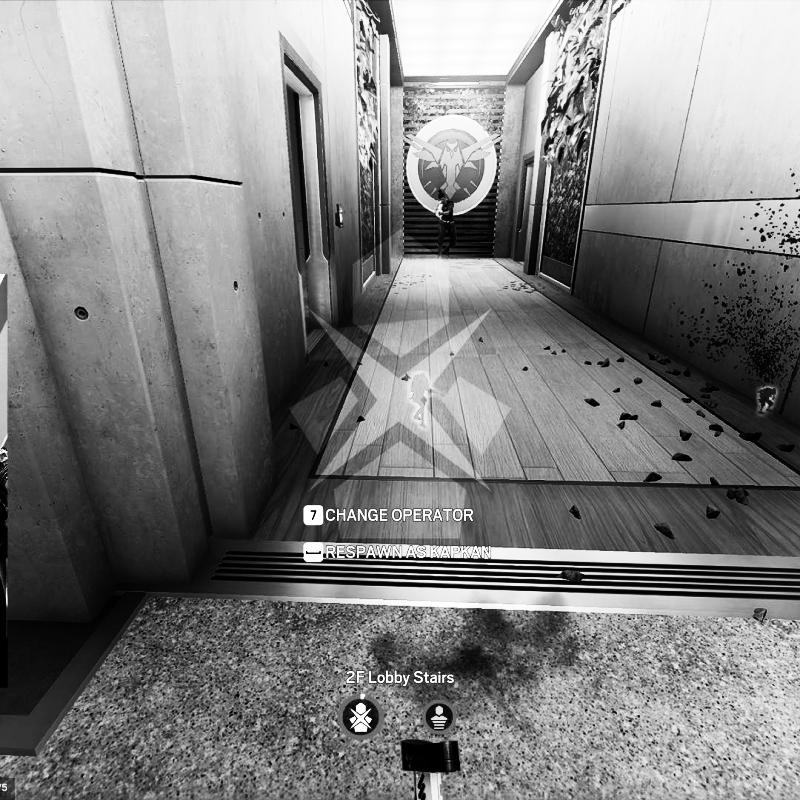Character: (436, 189, 457, 262)
Head: (544, 223, 634, 312), (438, 190, 446, 202)
